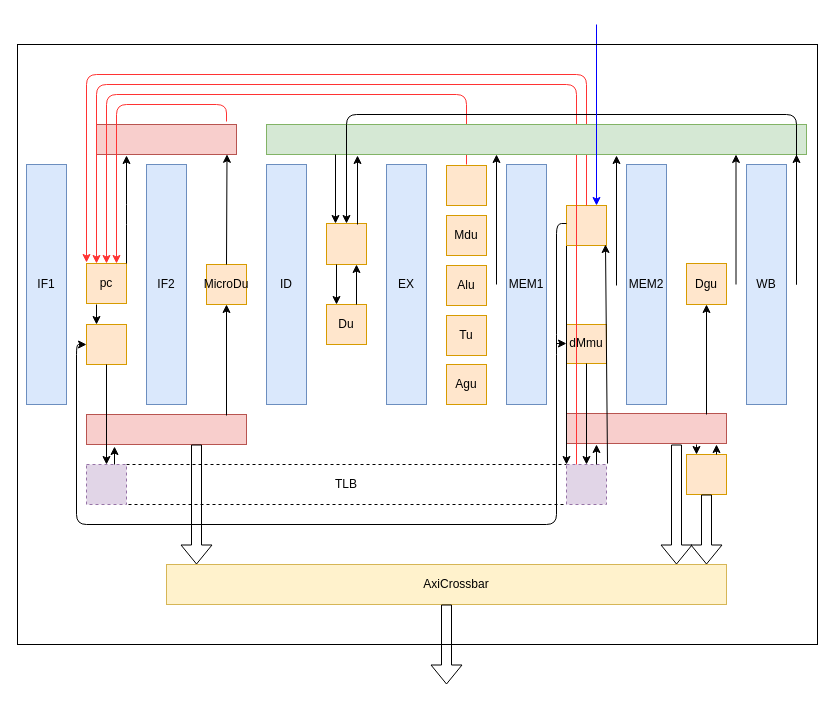
This 835x702 diagram has some shape labels left out. The centre of each missing label's shape, as x and y in pixels:
"Bpu" goes at point (166, 139).
"ByPass" goes at point (536, 139).
"Cp0" goes at point (586, 225).
"dCache" goes at point (646, 428).
"iCache" goes at point (166, 429).
"iMmu" goes at point (106, 344).
"Ju" goes at point (466, 185).
"Rf" goes at point (346, 243).
"Wq" goes at point (706, 474).
